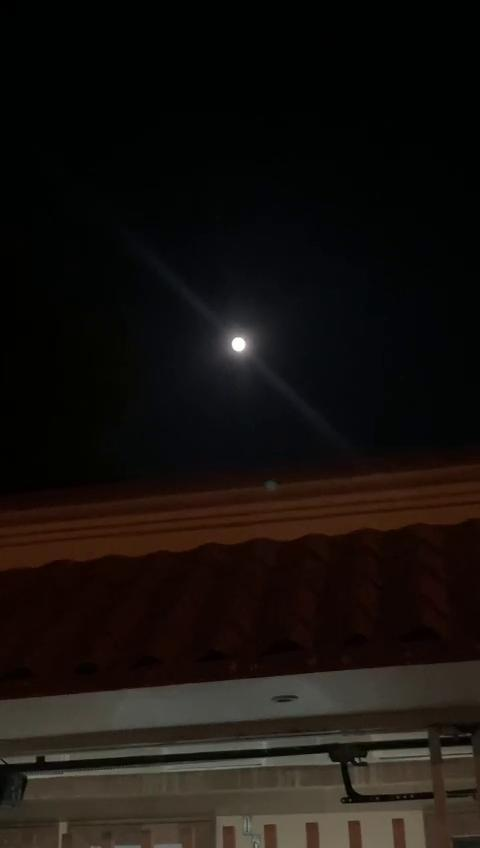moon: (222, 331, 242, 350)
